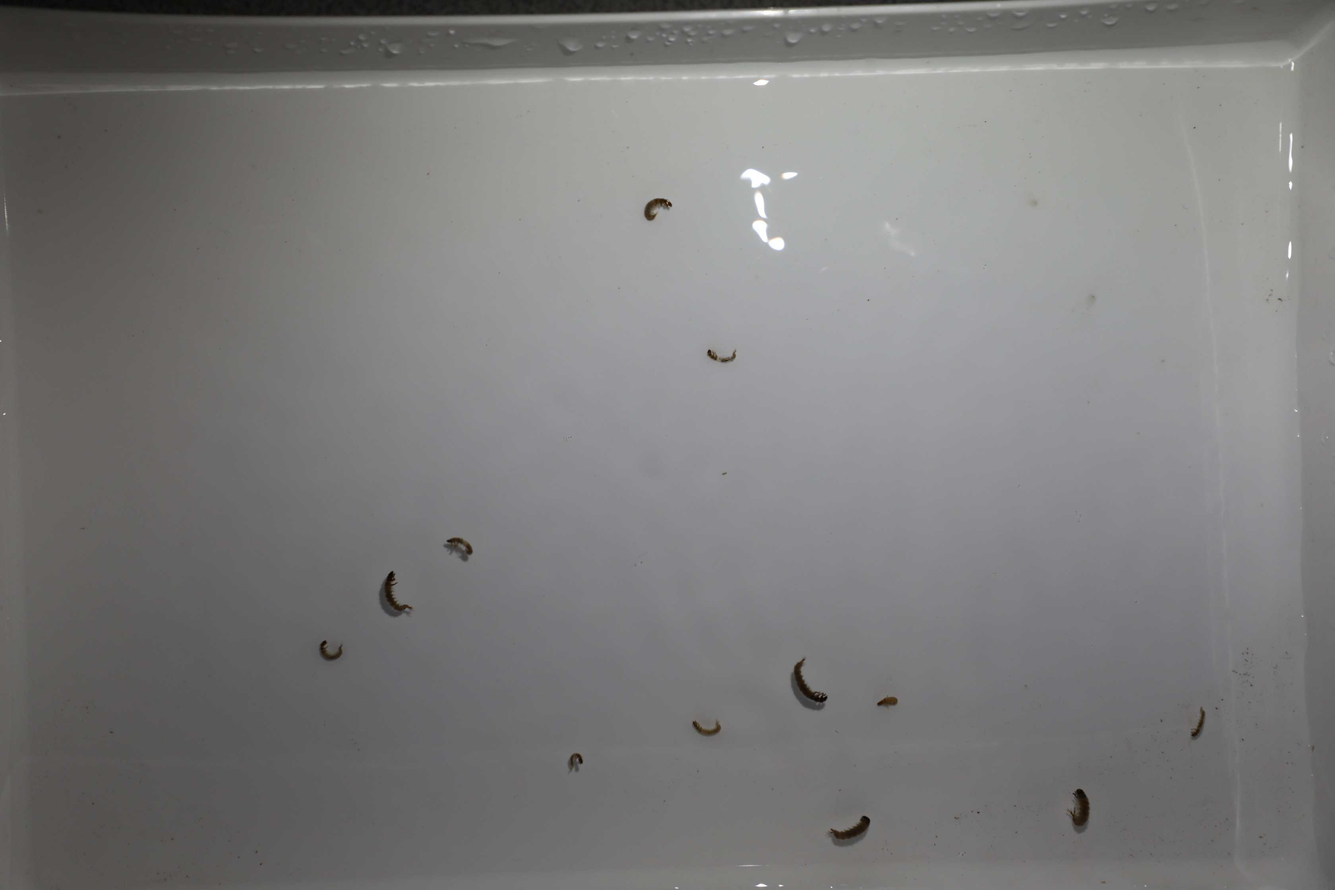Cadisfly: (789, 656, 829, 710), (629, 190, 679, 228), (380, 568, 416, 619), (439, 530, 487, 568), (695, 343, 743, 368), (860, 690, 902, 717), (829, 814, 872, 839), (684, 717, 725, 743), (312, 639, 345, 667), (1068, 788, 1088, 834), (1189, 702, 1209, 743), (563, 750, 589, 771)
